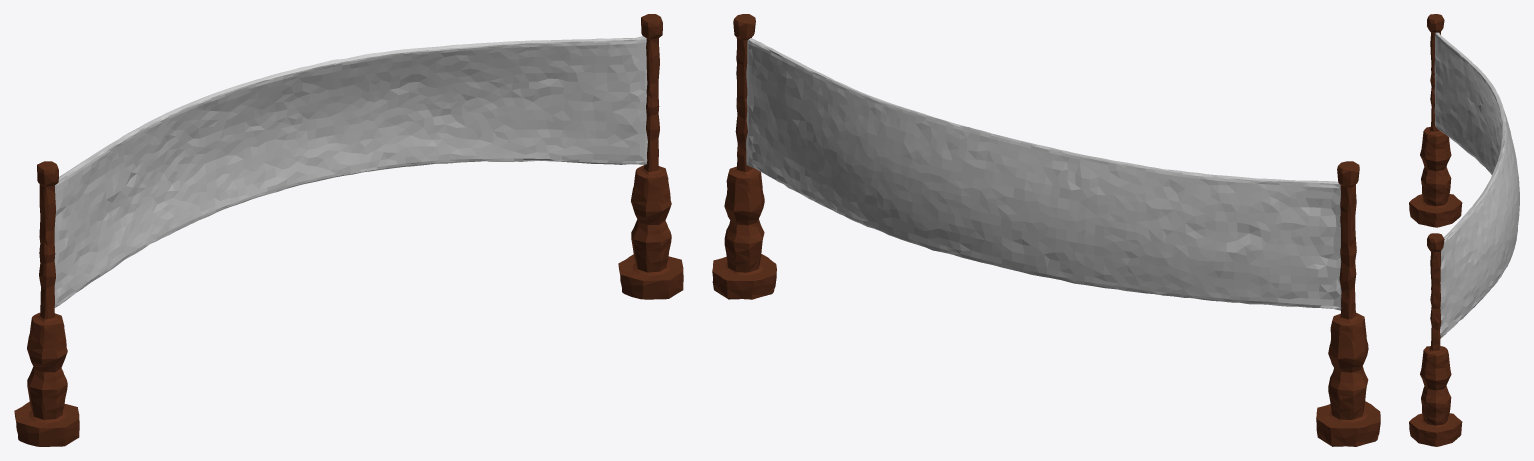
File: DesertLandSnakeFlag0167.obj
3 views of the same model, side by side, from view 1: azimuth 30°, elevation 25°; view 2: azimuth 150°, elevation 25°; view 3: azimuth 270°, elevation 25° (orthographic). The views are drawn at different scales.
Visible parts, largest first — view 1: Cube.003, Cube, Cube.002; view 2: Cube.003, Cube, Cube.002; view 3: Cube.003, Cube.002, Cube.
Boxes of the visible parts, <box> form: Cube.003: <box>54,36,647,307</box>; Cube: <box>14,161,79,446</box>; Cube.002: <box>618,14,683,299</box>; Cube.003: <box>746,38,1341,310</box>; Cube: <box>1316,161,1380,446</box>; Cube.002: <box>712,14,776,299</box>; Cube.003: <box>1434,32,1519,338</box>; Cube.002: <box>1409,233,1462,446</box>; Cube: <box>1409,14,1462,227</box>.
Bounding box in the file's own units: 27.57 × 10.7 × 5.35.
